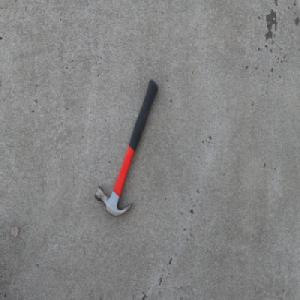Hammer: (93, 78, 158, 218)
